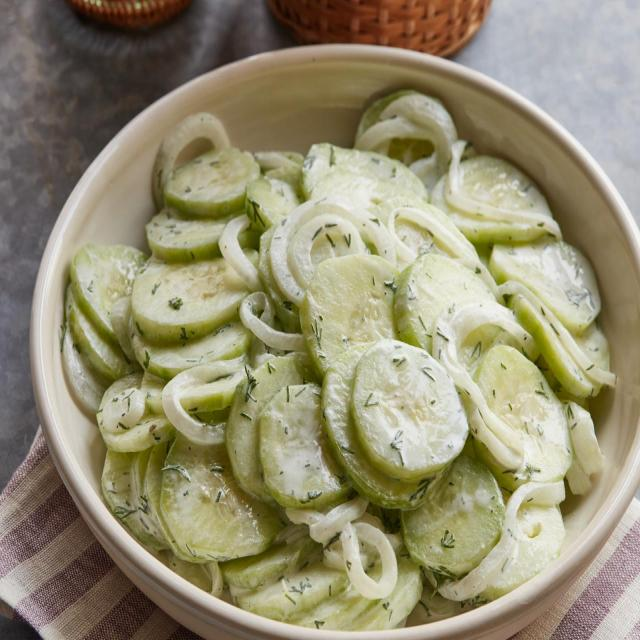Pickle: (321, 343, 436, 508), (351, 340, 469, 482), (160, 433, 282, 562), (474, 345, 572, 490), (401, 455, 505, 578), (225, 357, 311, 504), (300, 255, 399, 378), (259, 383, 351, 509), (489, 237, 601, 334), (302, 143, 429, 223), (131, 257, 249, 343), (395, 253, 494, 352), (70, 245, 146, 342), (235, 560, 350, 621), (164, 148, 260, 218), (458, 155, 552, 216), (145, 208, 230, 262)
